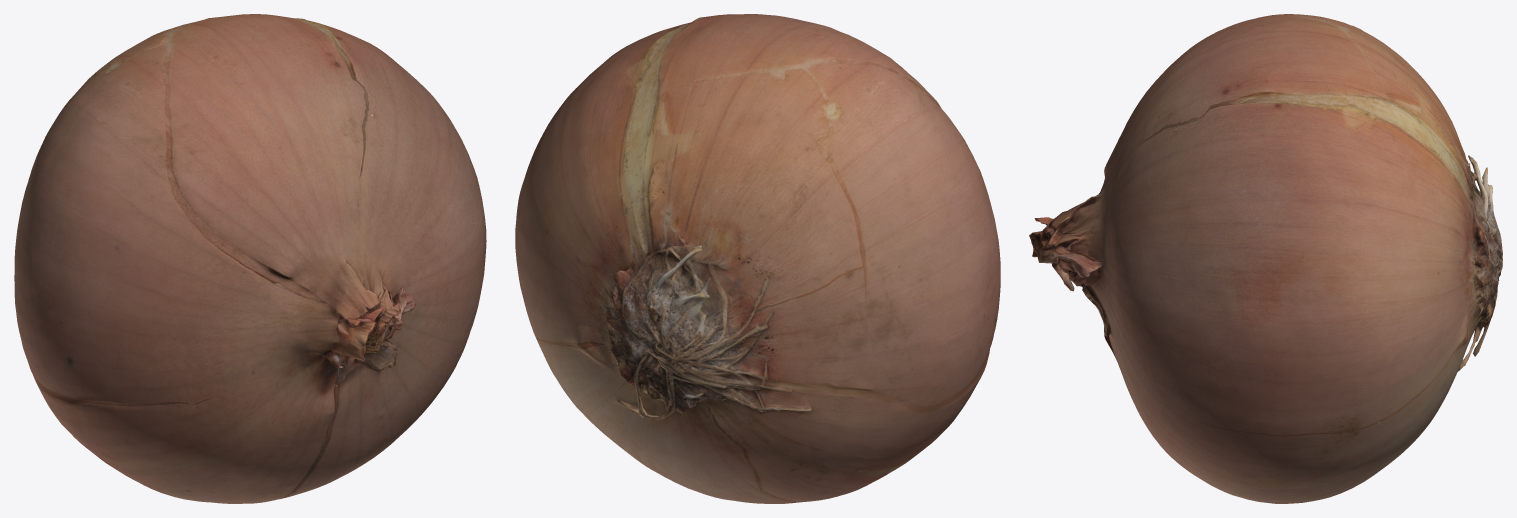
File: onion.glb
3 renders of one model, left to right at view 1: azimuth 30°, elevation 25°; view 2: azimuth 150°, elevation 25°; view 3: azimuth 270°, elevation 25°, orthographic. The views are drawn at different scales.
Visible parts, largest first — view 1: Object_2; view 2: Object_2; view 3: Object_2.
Boxes of the visible parts, x1,y1,x2,y2 form: Object_2: (14,14,486,503); Object_2: (515,14,1000,503); Object_2: (1029,14,1502,503).
Bounding box in the file's own units: 1.69 × 1.69 × 1.65.
1 material, 1 textured.
